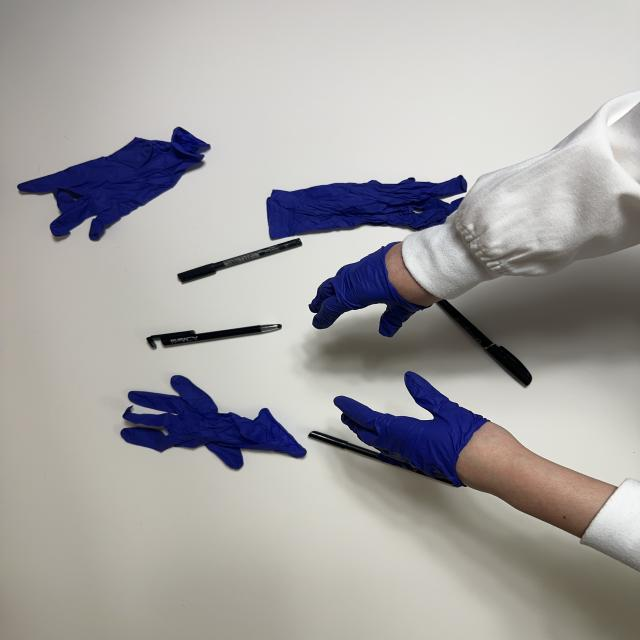glove_not_fitted: (331, 369, 521, 491), (308, 237, 445, 338)
